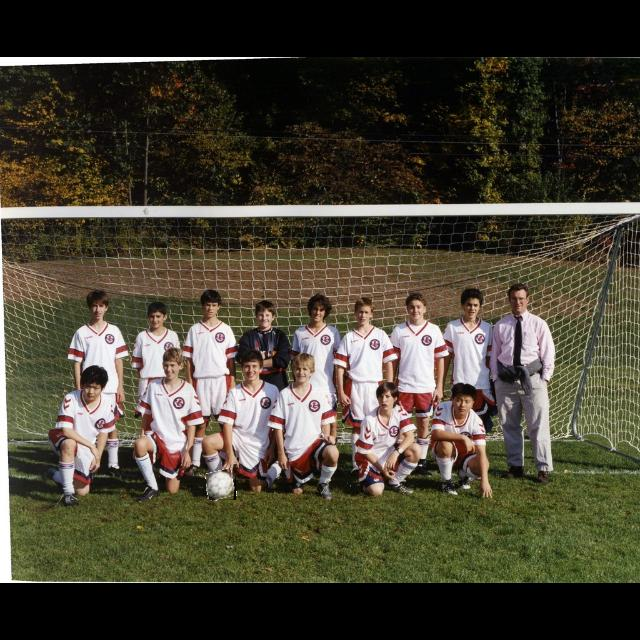Football: (206, 470, 236, 500)
